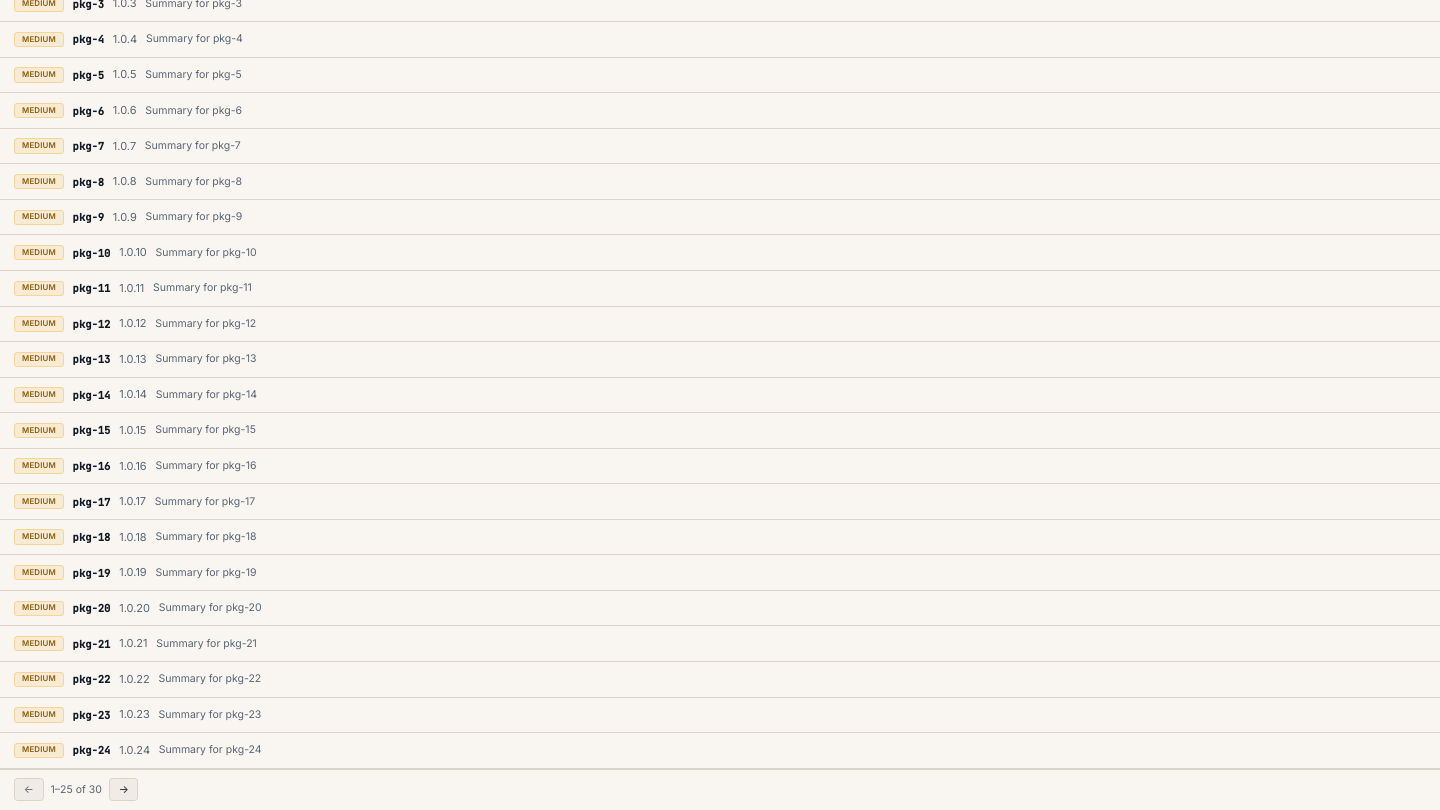
Test: FindingsTable › navigates to the next page
This screenshot has width=1440, height=810.
(page scrolled)
Expected: the text "pkg-25" is not shown
Click the button "→" at [124, 790], box [109,778,138,801]
(page scrolled)
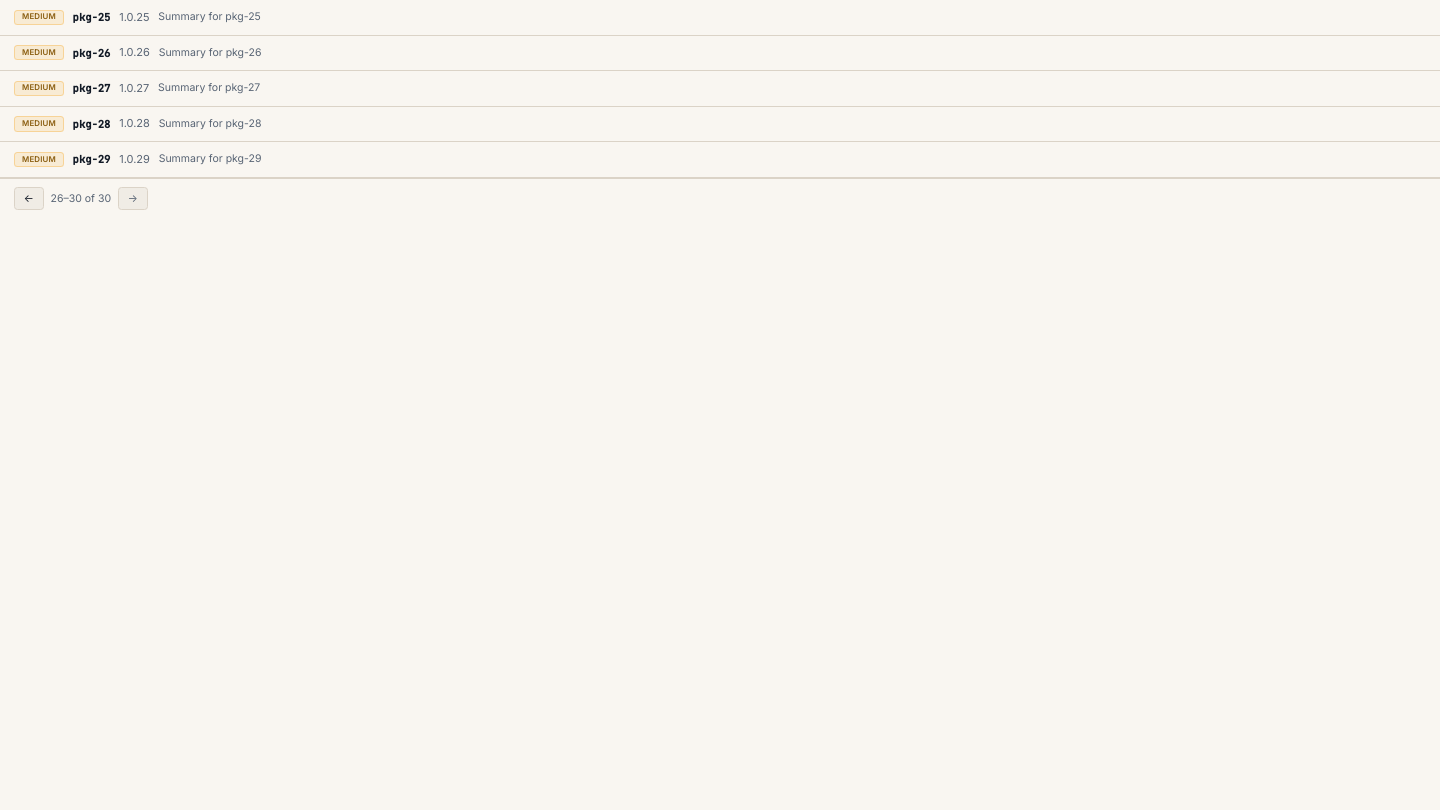
Result: the text "pkg-25" is shown at [73,10,110,24]
Result: the text "26–30 of 30" is shown at [50,192,111,206]
